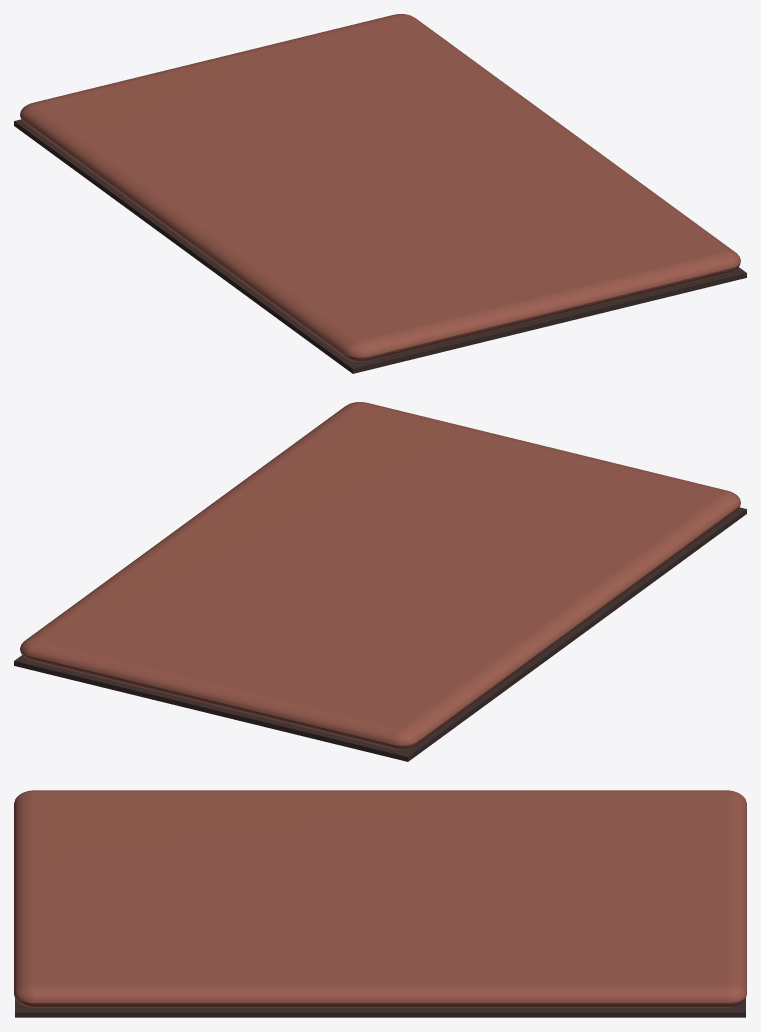
The model's file is doorMat.fbx.
3 views of the same model, one above another, from view 1: azimuth 30°, elevation 25°; view 2: azimuth 150°, elevation 25°; view 3: azimuth 270°, elevation 25° (orthographic). The views are drawn at different scales.
Parts seen in each view (by area): view 1: doorMat; view 2: doorMat; view 3: doorMat.
Part boxes in pixels (bbox=[...]): doorMat: bbox=[14, 14, 746, 373]; doorMat: bbox=[14, 402, 746, 761]; doorMat: bbox=[14, 790, 746, 1017].
Size of the model in its own units: 0.9698 by 0.0553 by 1.44.
